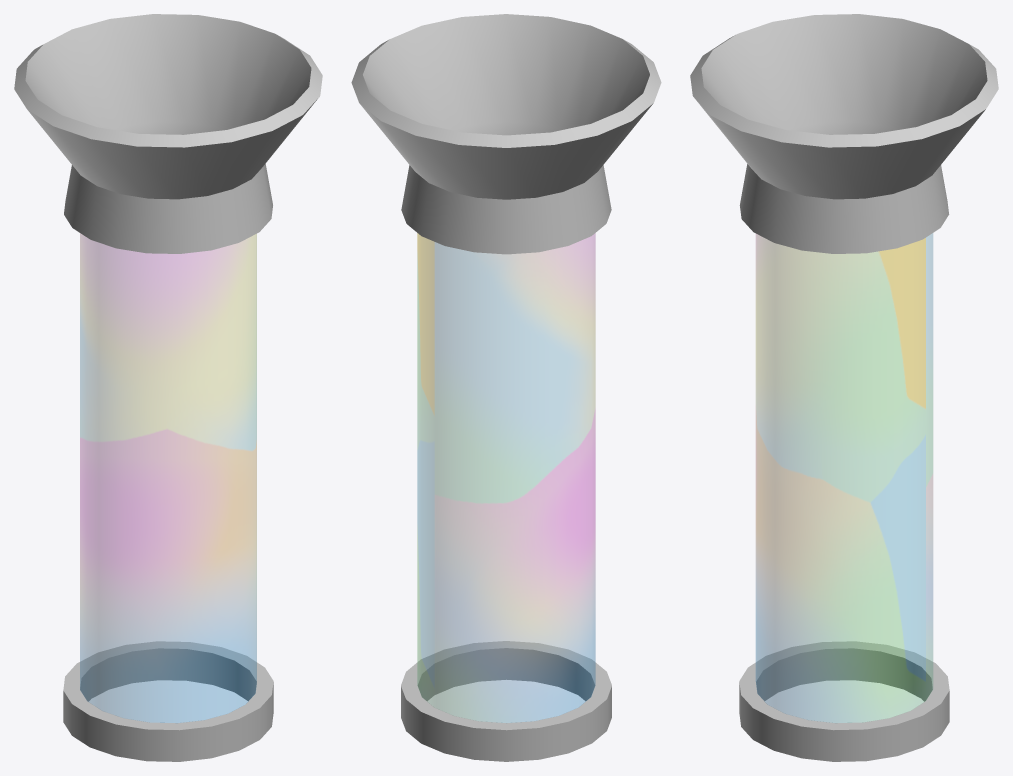
The model's file is PBR - Metallic Roughness Alpha-blend.gltf.
3 renders of one model, left to right at view 1: azimuth 30°, elevation 25°; view 2: azimuth 150°, elevation 25°; view 3: azimuth 270°, elevation 25°, orthographic.
Visible parts, largest first — view 1: suction_tupe pCylinder52, group4_pCylinder54 suction_tupe; view 2: suction_tupe pCylinder52, group4_pCylinder54 suction_tupe; view 3: suction_tupe pCylinder52, group4_pCylinder54 suction_tupe.
Part boxes in pixels (left/top/right/bottom): suction_tupe pCylinder52: left=80, top=233, right=256, bottom=722; group4_pCylinder54 suction_tupe: left=14, top=14, right=322, bottom=761; suction_tupe pCylinder52: left=417, top=233, right=595, bottom=722; group4_pCylinder54 suction_tupe: left=351, top=14, right=661, bottom=761; suction_tupe pCylinder52: left=756, top=233, right=932, bottom=722; group4_pCylinder54 suction_tupe: left=690, top=14, right=998, bottom=761.
Size of the model in its own units: 0.4386 by 1.01 by 0.4386.
